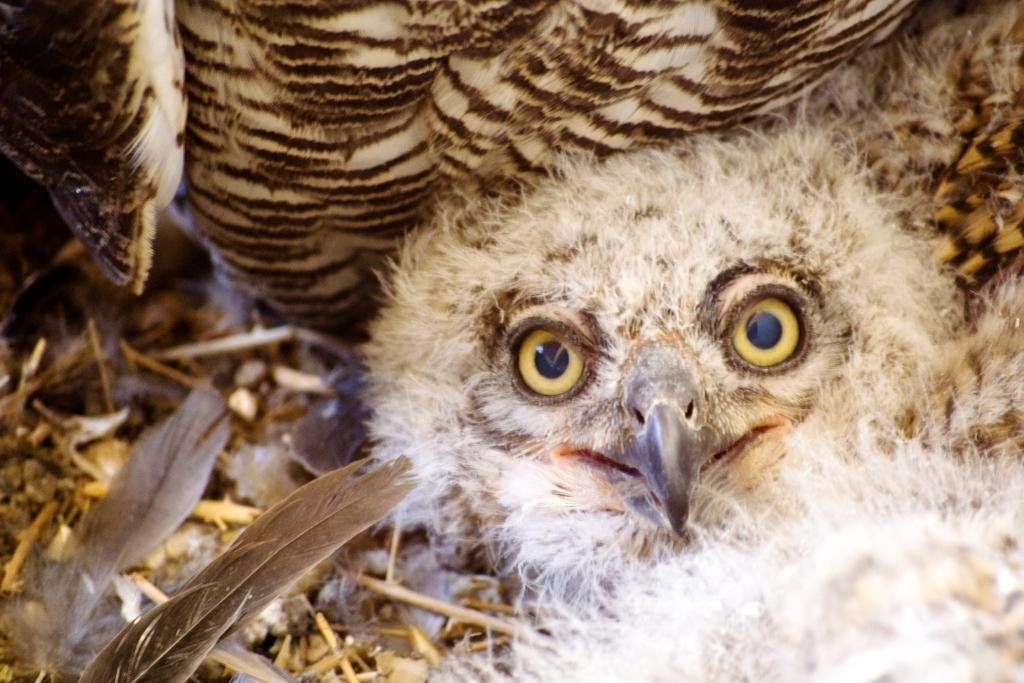Owl: (350, 118, 1024, 682)
